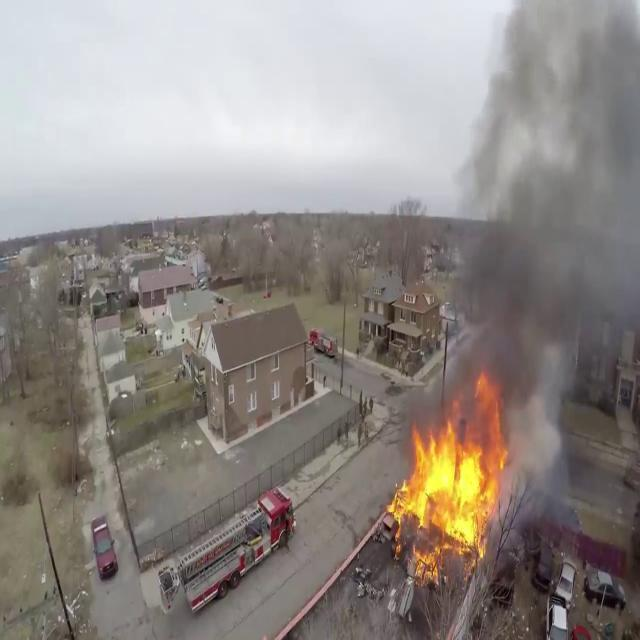Fire: (379, 396, 514, 576)
Smoke: (429, 0, 640, 426)
